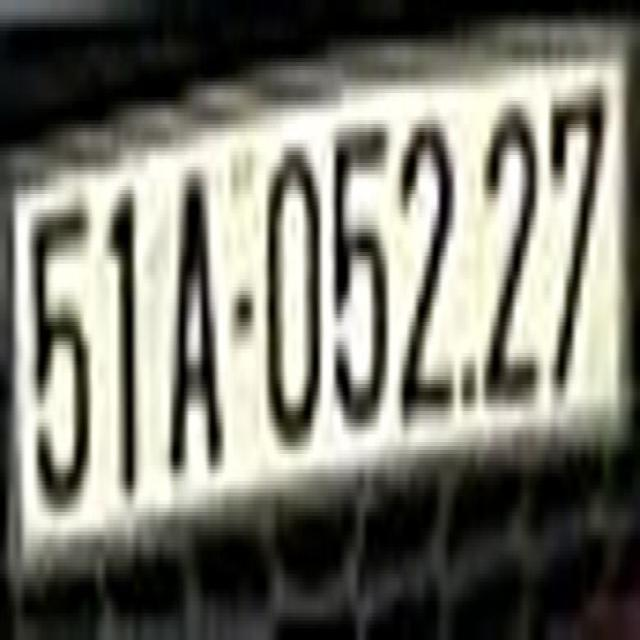0: (263, 116, 323, 454)
1: (102, 151, 152, 512)
2: (481, 66, 541, 419), (397, 78, 456, 430)
5: (330, 89, 391, 442), (31, 194, 94, 531)
7: (547, 47, 607, 400)
A: (165, 155, 224, 493)
